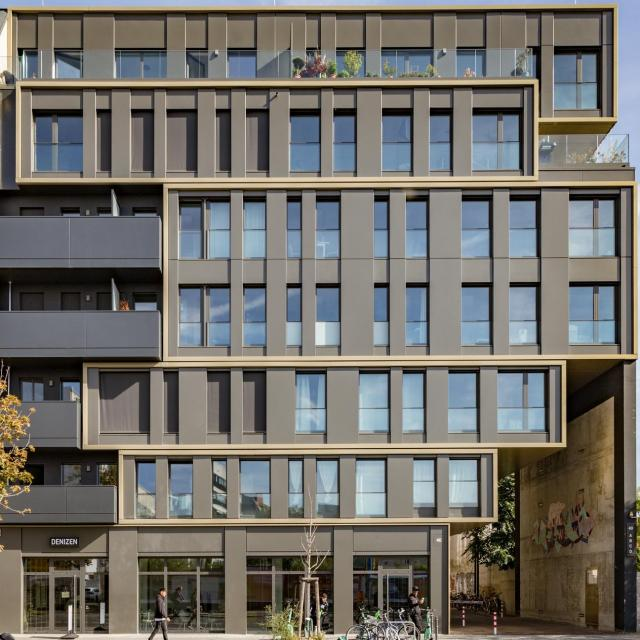door: (47, 569, 85, 631)
railing: (15, 48, 534, 77), (538, 134, 630, 164)
window: (245, 556, 334, 635), (23, 556, 108, 634), (140, 557, 226, 632), (354, 557, 431, 618), (32, 112, 80, 174), (473, 111, 518, 170), (569, 199, 614, 258), (498, 374, 544, 431), (556, 53, 600, 111), (570, 285, 614, 343), (240, 456, 272, 517), (446, 370, 476, 431), (295, 372, 325, 433), (289, 110, 318, 170), (356, 460, 387, 516), (382, 111, 411, 170), (360, 372, 388, 433), (315, 286, 343, 346), (461, 198, 489, 257), (460, 285, 488, 344), (509, 286, 537, 343), (509, 200, 537, 257), (447, 457, 479, 506), (206, 198, 230, 259), (180, 198, 204, 259), (314, 458, 340, 514), (316, 199, 341, 257), (179, 286, 202, 347), (242, 286, 265, 347), (209, 286, 231, 348), (169, 461, 193, 516), (332, 111, 354, 170), (403, 373, 425, 432), (407, 200, 429, 257), (405, 287, 427, 344), (245, 201, 267, 258), (135, 462, 157, 516), (431, 111, 451, 170), (414, 459, 437, 509), (287, 458, 306, 518), (374, 286, 390, 346), (374, 197, 389, 257), (287, 286, 302, 346), (287, 199, 301, 259), (212, 462, 227, 516), (97, 463, 119, 487), (20, 381, 43, 402), (61, 379, 82, 400), (63, 466, 81, 486), (136, 297, 157, 311), (133, 209, 159, 218), (62, 209, 79, 216), (99, 212, 110, 216)
